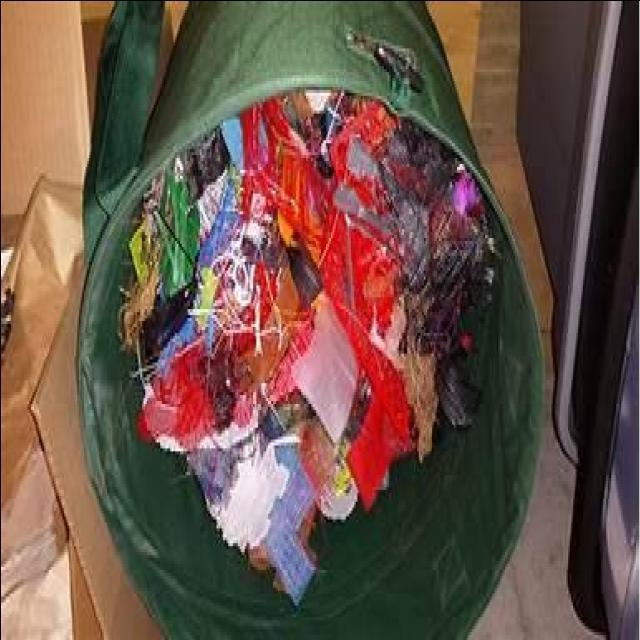Garbage: (119, 88, 494, 604)
Plastic: (121, 88, 496, 604)
